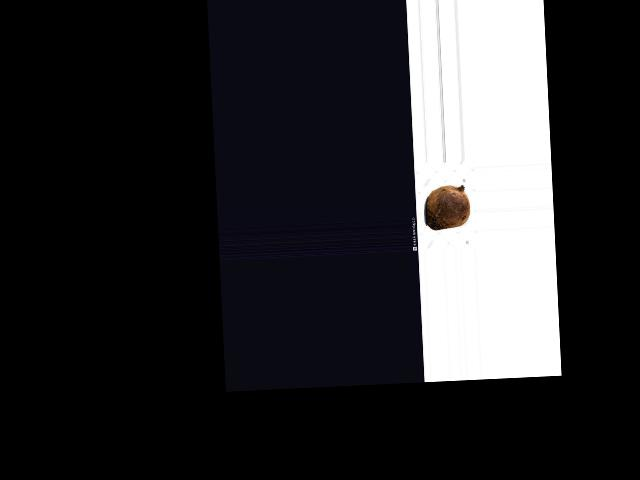beet: (424, 184, 470, 230)
